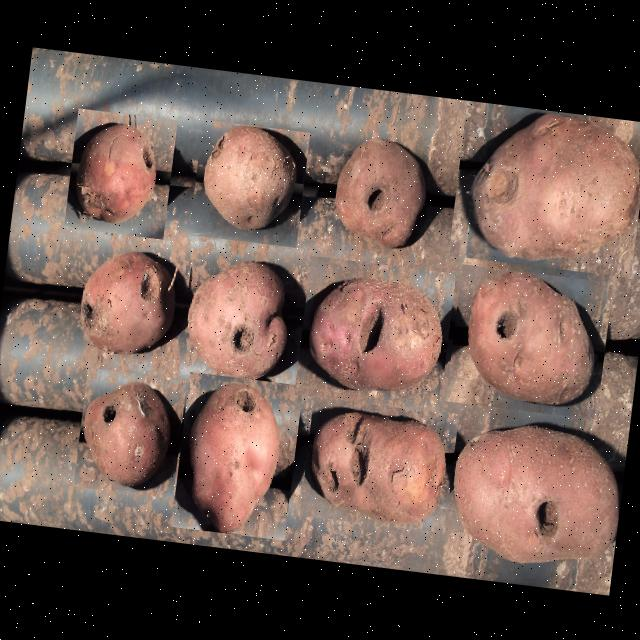Diseased-fungal potato: (436, 402, 629, 580), (446, 99, 640, 276), (444, 263, 612, 418), (293, 254, 455, 411), (170, 370, 302, 540), (298, 394, 458, 532), (177, 246, 303, 382), (323, 124, 439, 259), (188, 118, 309, 246), (72, 366, 186, 497), (62, 107, 176, 238), (66, 242, 180, 372)
